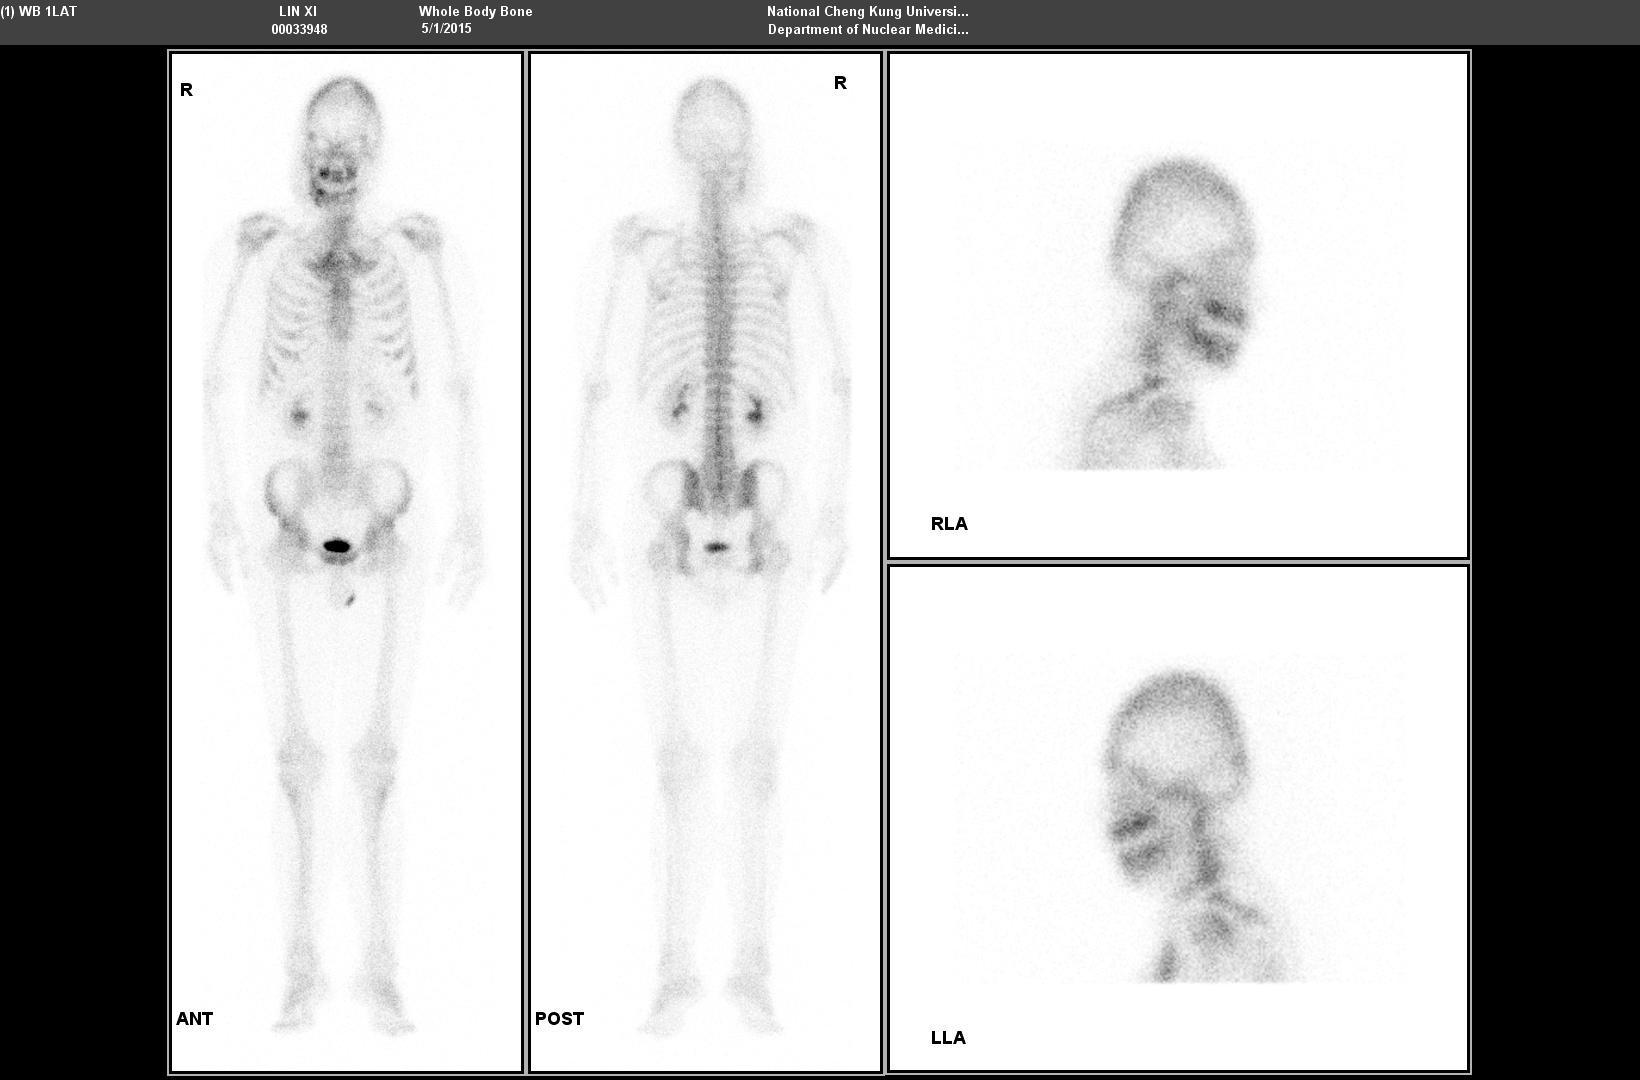person: (171, 52, 886, 1071)
